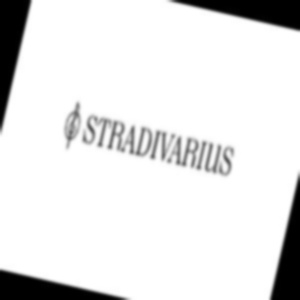stradivarius: (216, 48, 269, 144)
